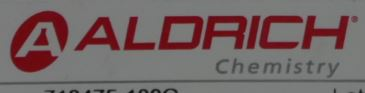SigmaAldrich: (8, 8, 360, 79)
